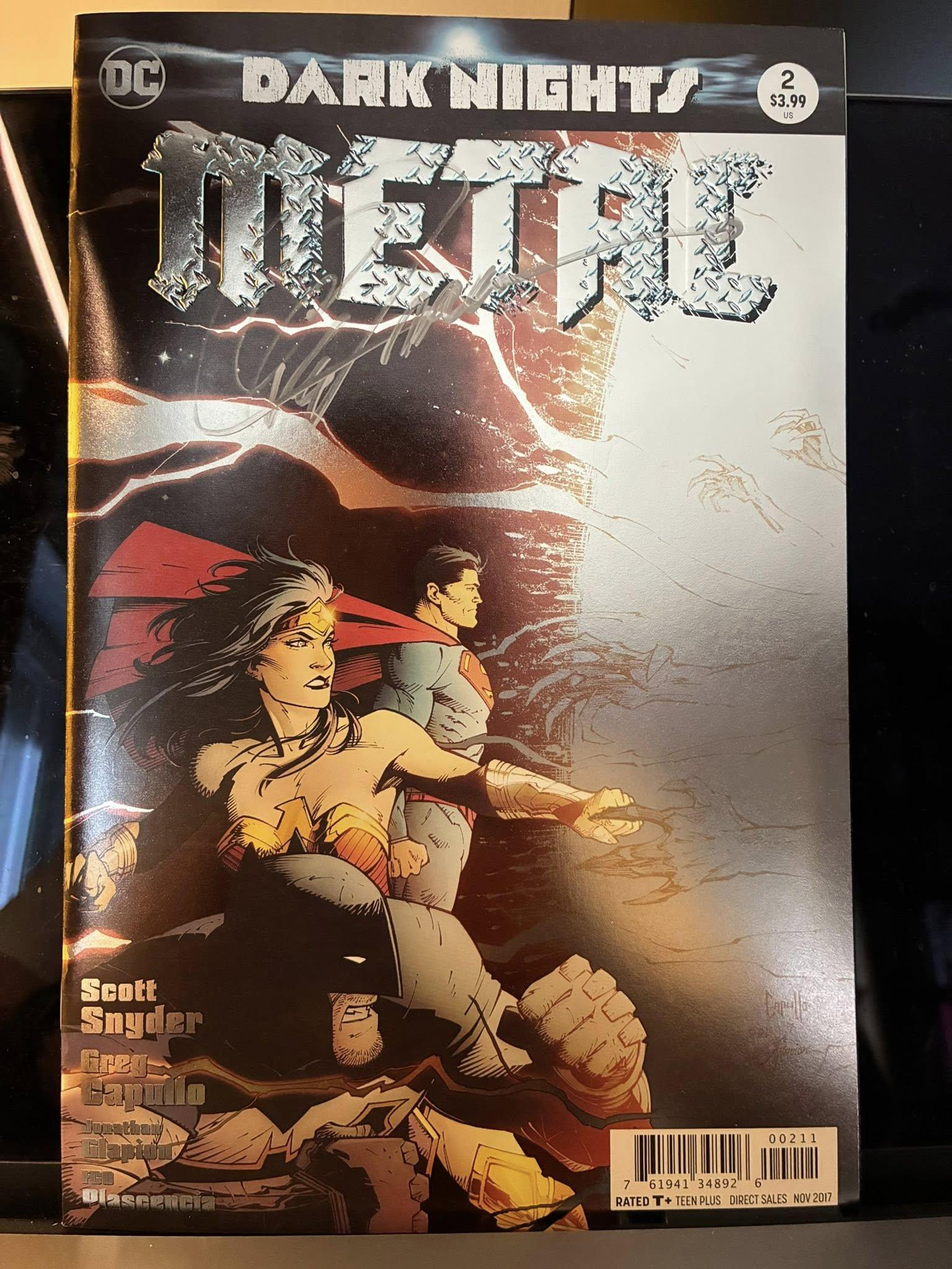comic: (59, 12, 856, 1233)
